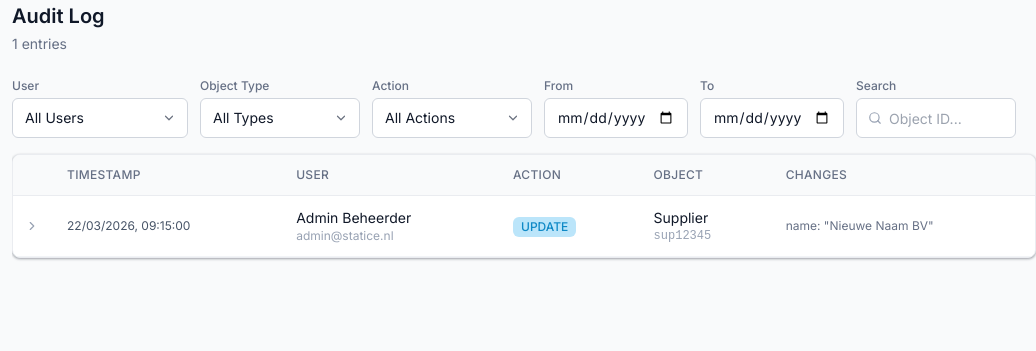
Test case: AuditLogPage › expands a row to show diff on click
// Click row to expand
Step 1. Click the text "Admin Beheerder" → (354, 218), box [296,209,411,226]
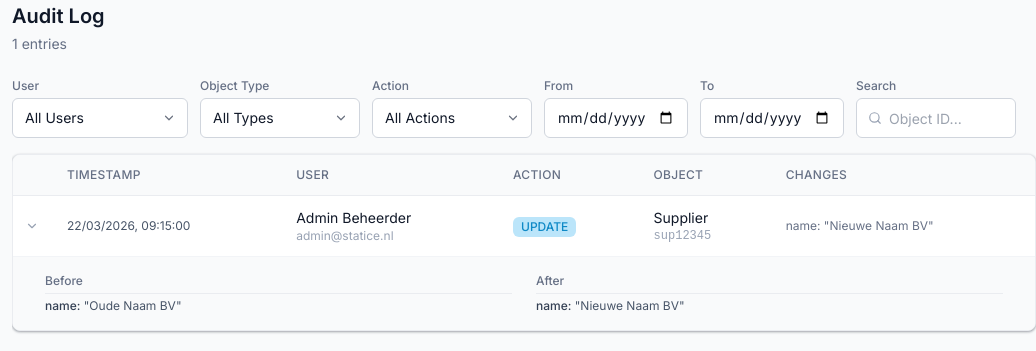
Now the text "Before" is shown, box [45,273,512,294]
Now the text "After" is shown, box [536,273,1003,294]
